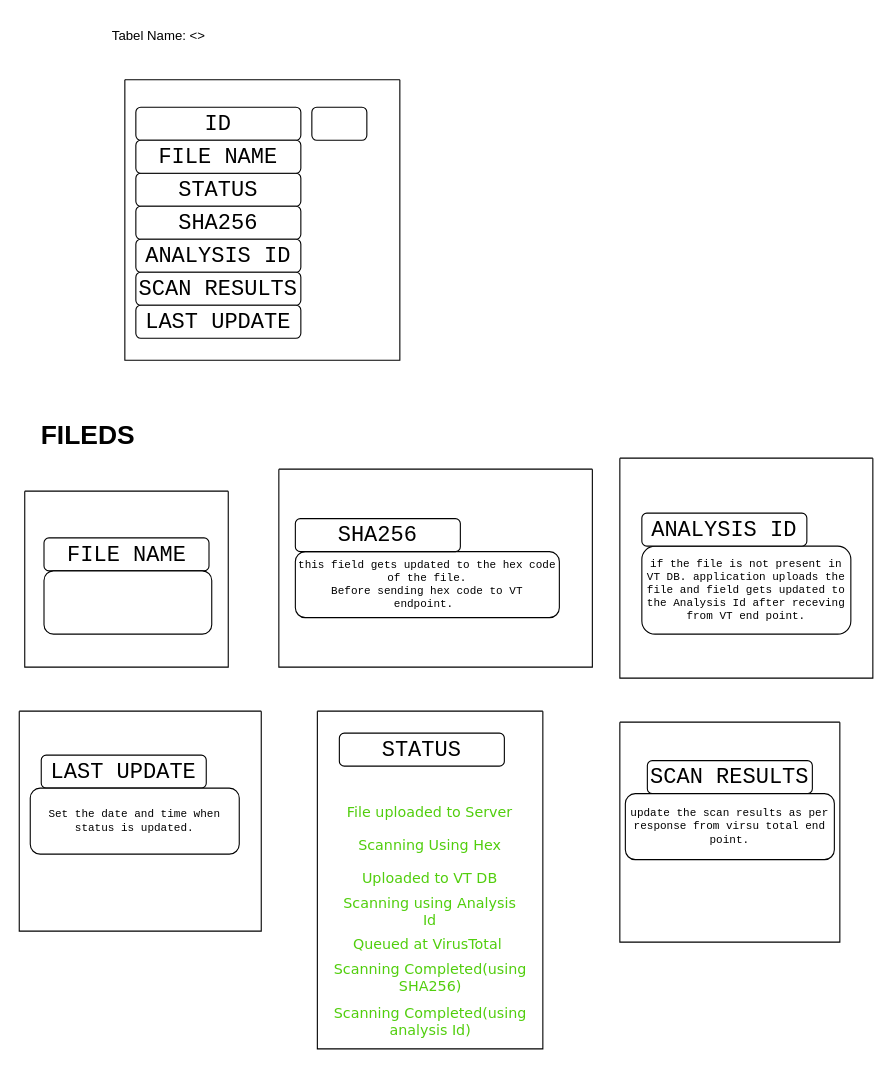
This 892x1068 diagram has some shape labels left out. Each missing label, with the centre of its shape:
primary key: the point at 339,123
this field is set to original file name when creating the record: the point at 127,602
